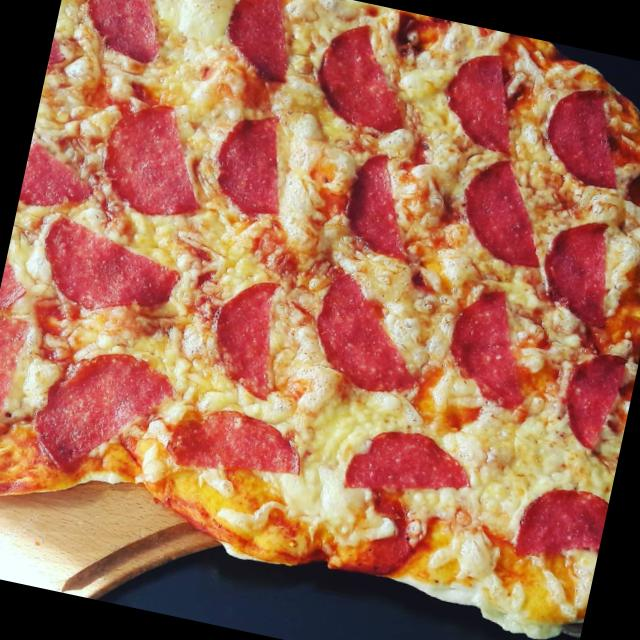pepperoni: (21, 334, 180, 484), (90, 92, 220, 222), (303, 267, 424, 403), (42, 211, 186, 325), (431, 280, 554, 413), (304, 15, 421, 144), (162, 394, 312, 494), (444, 150, 560, 274), (334, 414, 480, 512), (197, 256, 297, 397), (495, 468, 611, 576), (528, 210, 626, 331), (537, 78, 631, 198), (311, 478, 423, 578), (435, 40, 531, 156), (336, 146, 430, 264), (547, 334, 637, 456), (205, 102, 298, 218), (215, 0, 314, 87), (76, 0, 178, 69), (17, 140, 96, 221), (0, 309, 29, 464), (0, 250, 30, 308)
